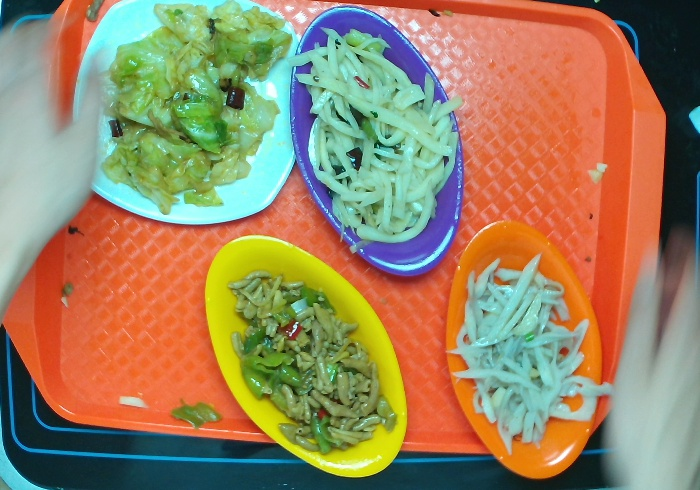RJxy-Fen_Hong_Tuo_Yuan: (286, 1, 468, 282)
RJxy-Huang_Se_Tuo_Yuan: (199, 227, 408, 488)
RJxy-Ju_Huang_Tuo_Yuan: (443, 213, 608, 484)
RJxy-Si_Fang_Die: (61, 1, 310, 234)
